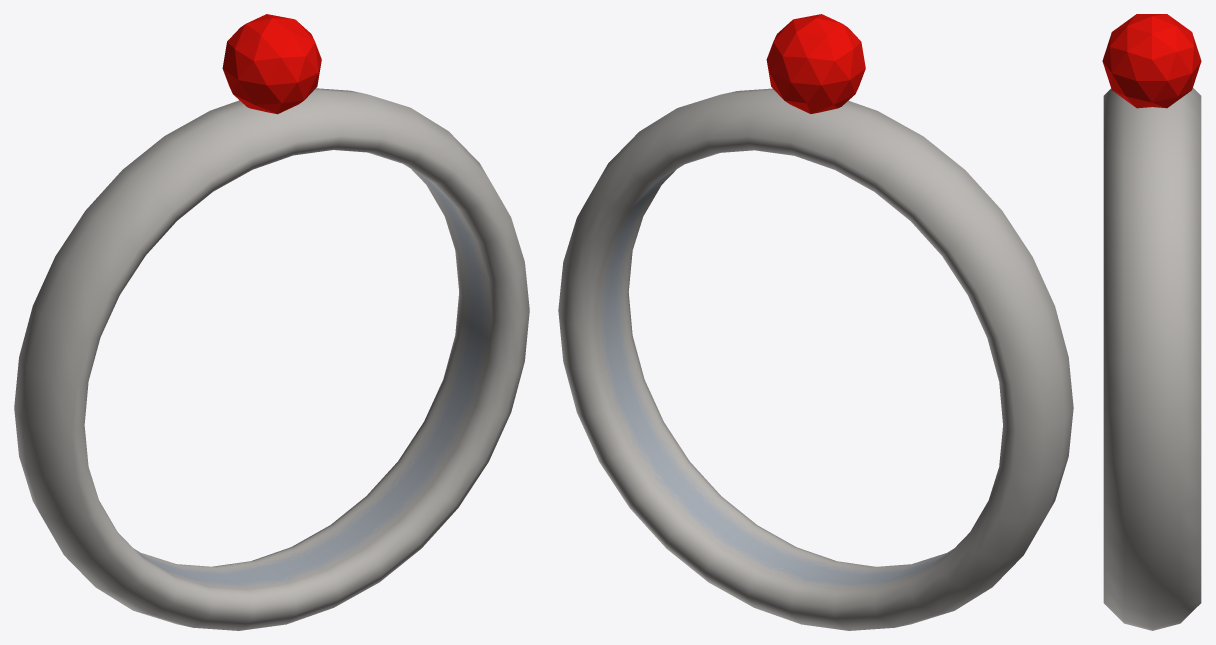
Rendered from dracoRing.gltf.
3 renders of one model, left to right at view 1: azimuth 30°, elevation 25°; view 2: azimuth 150°, elevation 25°; view 3: azimuth 270°, elevation 25°, orthographic. The views are drawn at different scales.
Parts seen in each view (by area): view 1: ring, gem_red; view 2: ring, gem_red; view 3: ring, gem_red.
Part boxes in pixels (box(x1,y1,x2,y2)): ring: box(14, 88, 529, 630); gem_red: box(222, 14, 321, 114); ring: box(558, 88, 1073, 630); gem_red: box(766, 14, 865, 113); ring: box(1103, 88, 1201, 630); gem_red: box(1102, 14, 1201, 108).
Bounding box in the file's own units: 40.99 × 47.24 × 7.21.
2 materials, 1 textured.
